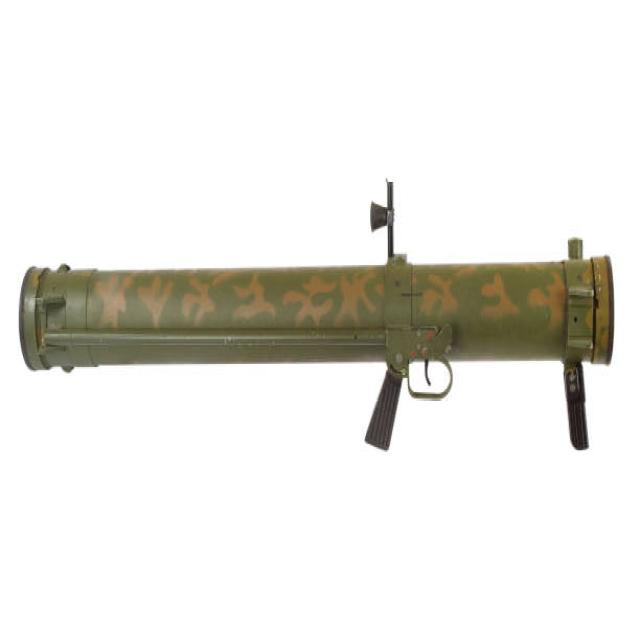bazooka: (16, 175, 621, 470)
